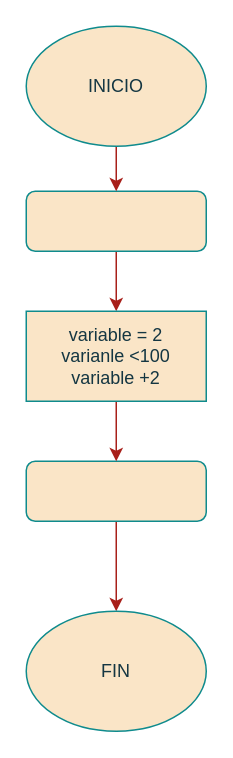
Some shapes in this 233 by 758 pixel diagram are drawn without their labels. The centre of each missing label's shape, as x and y in pixels:
Definir variable: (115,220)
Impimir variable: (115,490)
